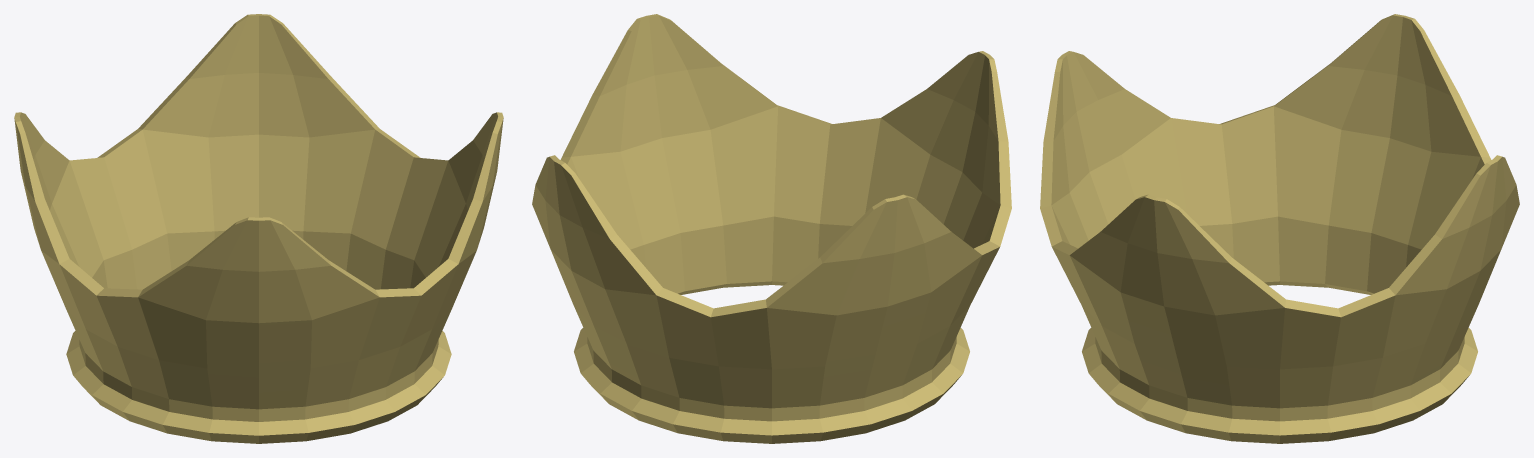
Rendered from SM_Crown.fbx.
3 renders of one model, left to right at view 1: azimuth 30°, elevation 25°; view 2: azimuth 150°, elevation 25°; view 3: azimuth 270°, elevation 25°, orthographic. The views are drawn at different scales.
Parts seen in each view (by area): view 1: SM_Crown; view 2: SM_Crown; view 3: SM_Crown.
Part boxes in pixels (x1,y1,x2,y2): SM_Crown: (14,14,503,443); SM_Crown: (532,14,1011,443); SM_Crown: (1040,14,1519,443).
Bounding box in the file's own units: 83.15 × 49.2 × 83.15.
